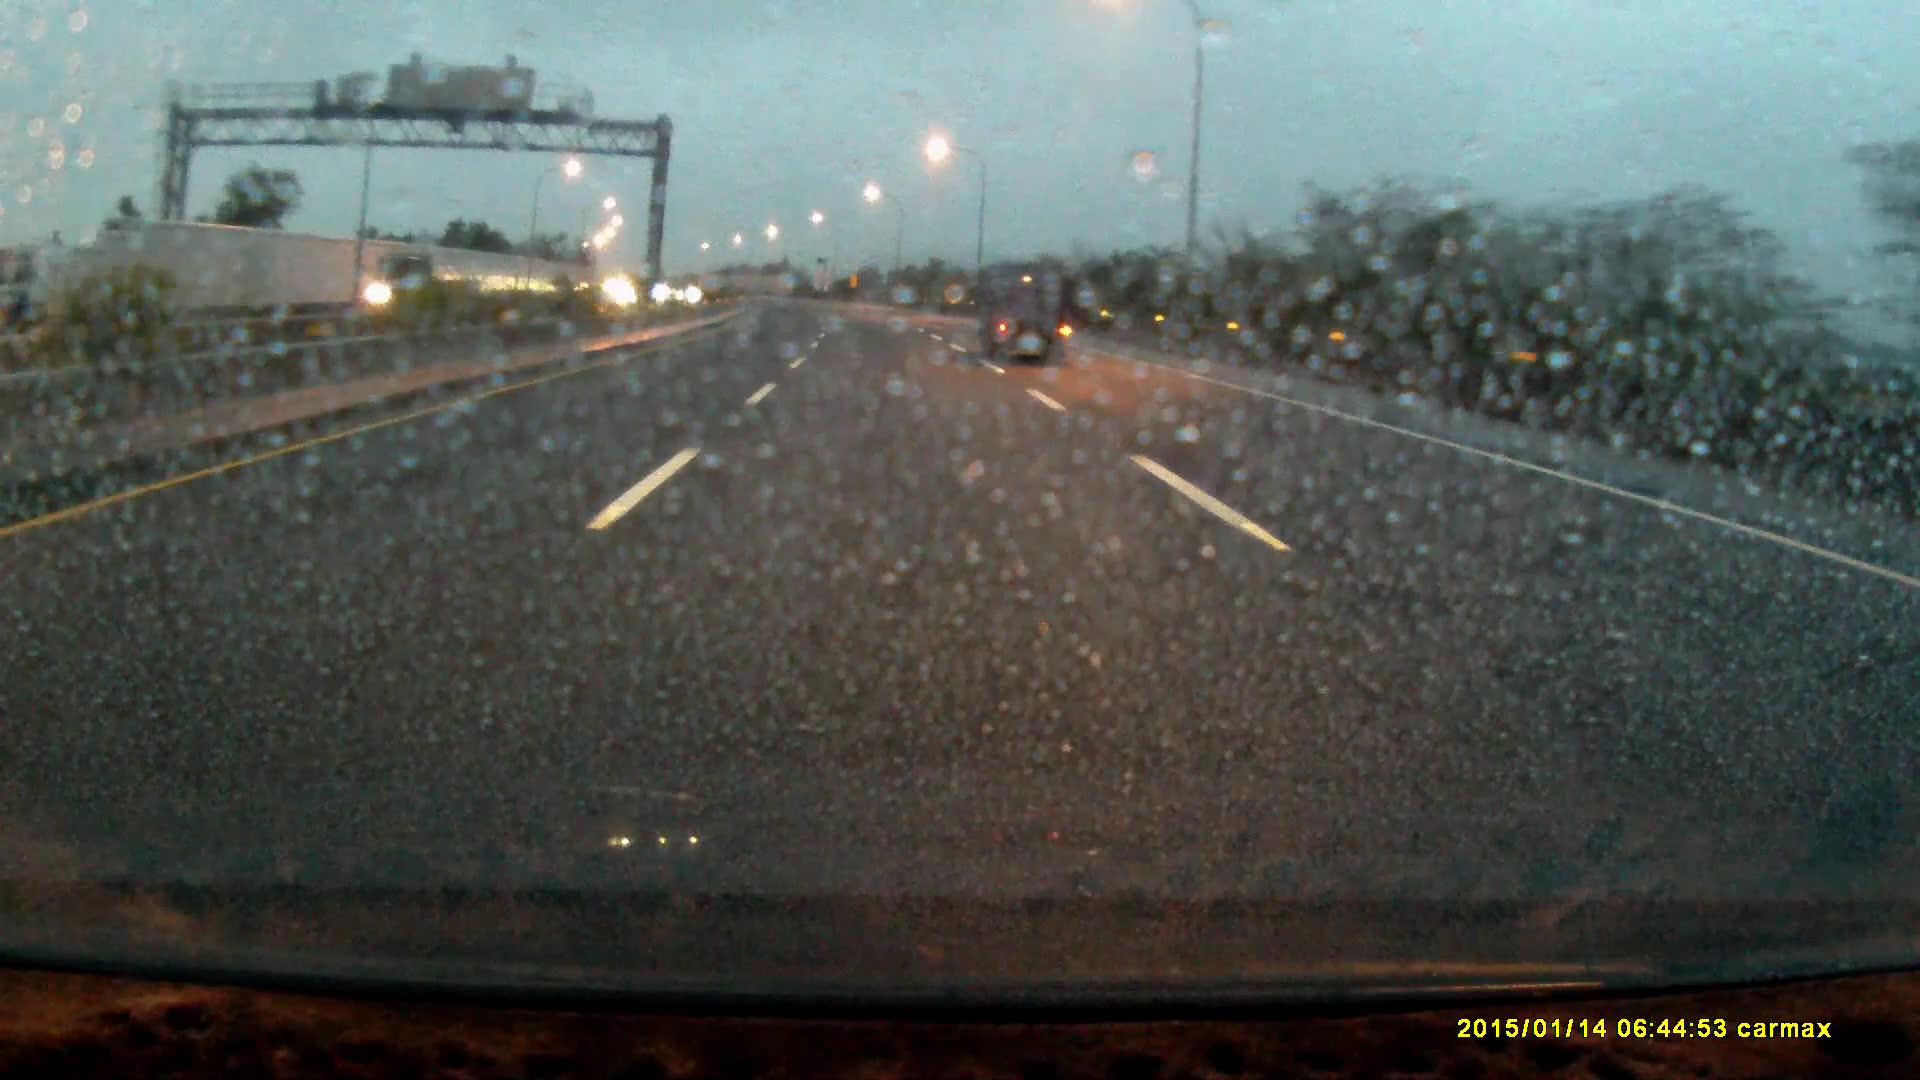vehicle: (982, 270, 1069, 365), (367, 251, 484, 319)
